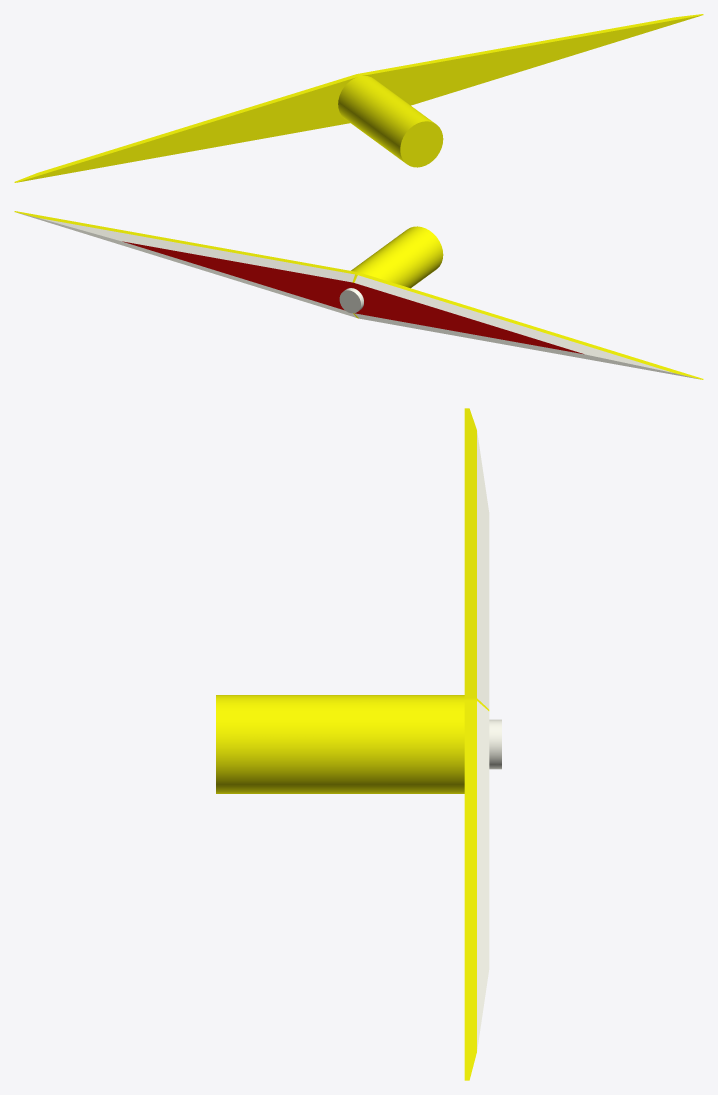
Rendered from BigBlade.FBX.
3 renders of one model, top to bottom at view 1: azimuth 30°, elevation 25°; view 2: azimuth 150°, elevation 25°; view 3: azimuth 270°, elevation 25°, orthographic. The views are drawn at different scales.
Visible parts, largest first — view 1: bigblade; view 2: bigblade; view 3: bigblade.
Part boxes in pixels (x1,y1,x2,y2): bigblade: (14,14,703,182); bigblade: (14,211,703,379); bigblade: (216,408,501,1080).
Size of the model in its own units: 640 by 40 by 115.
